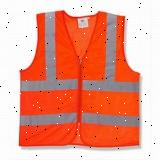Vest: (18, 9, 141, 148)
